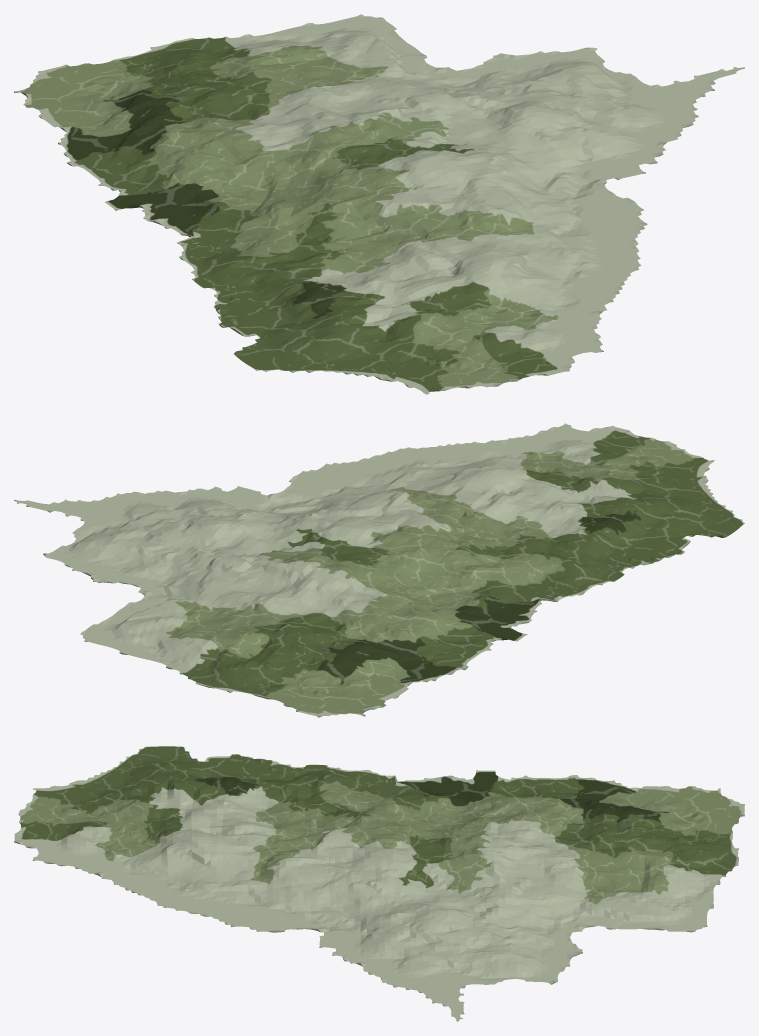
Rendered from mapgreen.glb.
3 views of the same model, one above another, from view 1: azimuth 30°, elevation 25°; view 2: azimuth 150°, elevation 25°; view 3: azimuth 270°, elevation 25° (orthographic). The views are drawn at different scales.
Parts seen in each view (by area): view 1: BézierCurve; view 2: BézierCurve; view 3: BézierCurve.
Part boxes in pixels (<box>): BézierCurve: <box>14,14,744,394</box>; BézierCurve: <box>14,423,744,717</box>; BézierCurve: <box>14,746,744,1021</box>.
Bounding box in the file's own units: 0.3733 × 0.0157 × 0.4194.
1 material, 1 textured.
